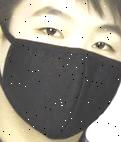with_mask: (1, 2, 121, 142)
